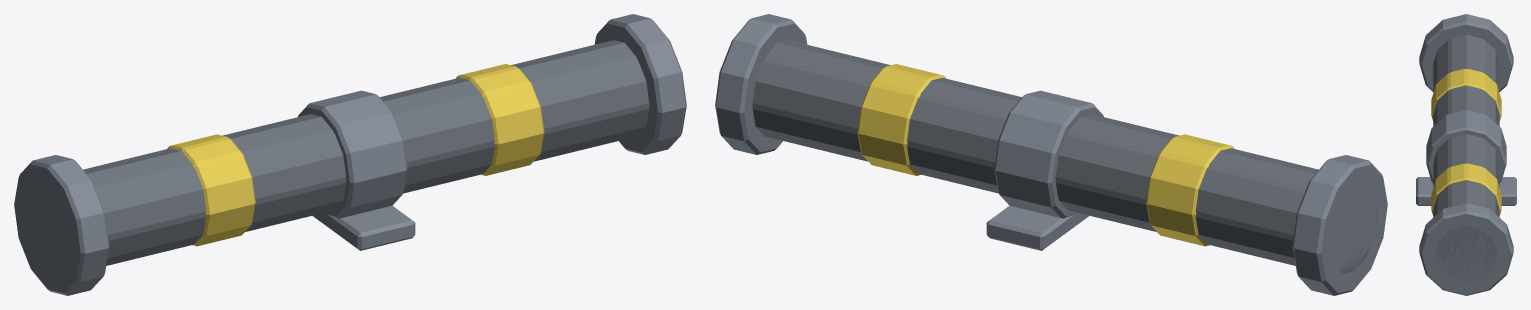
Rendered from conduit.glb.
3 views of the same model, side by side, from view 1: azimuth 30°, elevation 25°; view 2: azimuth 150°, elevation 25°; view 3: azimuth 270°, elevation 25° (orthographic). The views are drawn at different scales.
Visible parts, largest first — view 1: conduit; view 2: conduit; view 3: conduit.
Boxes of the visible parts, x1=… form: conduit: x1=14, y1=14, x2=686, y2=295; conduit: x1=715, y1=14, x2=1387, y2=295; conduit: x1=1416, y1=14, x2=1516, y2=295.
Bounding box in the file's own units: 0.42 × 0.084 × 0.09.
